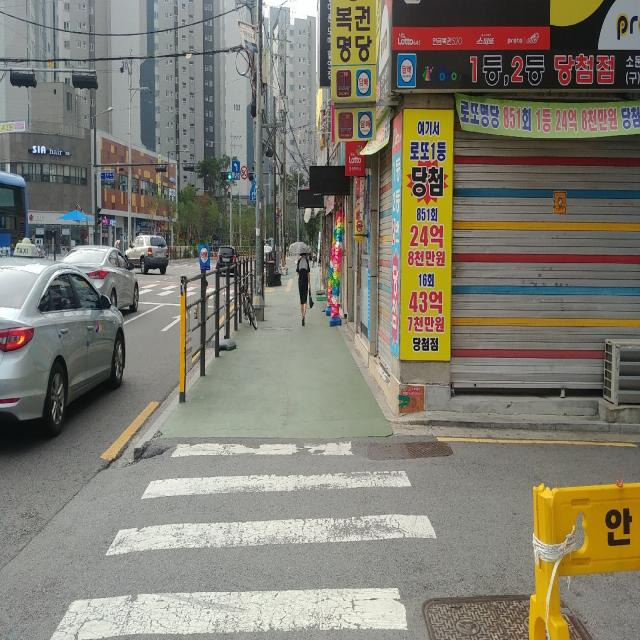횡단보도: (49, 440, 438, 640), (136, 281, 234, 299)
